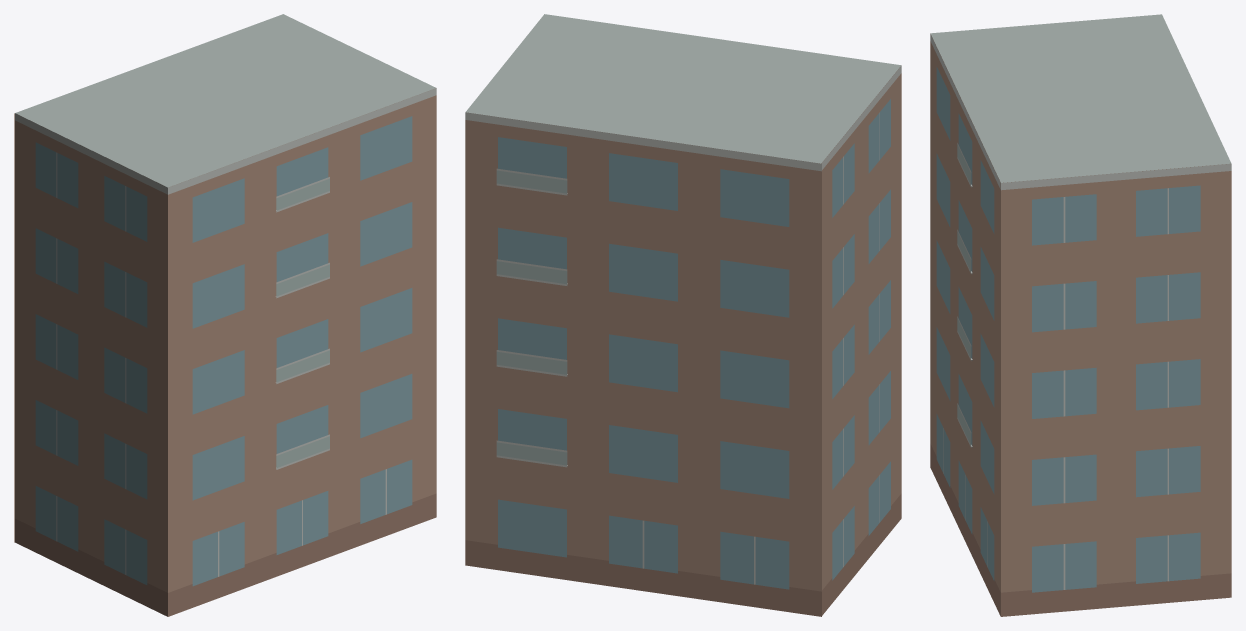
File: survey-upis-32708950.glb
The picture shows the model from 3 angles, left to right: view 1: azimuth 30°, elevation 25°; view 2: azimuth 150°, elevation 25°; view 3: azimuth 270°, elevation 25°; orthographic projection. The views are drawn at different scales.
Visible parts, largest first — view 1: survey-upis-32708950.tmp; view 2: survey-upis-32708950.tmp; view 3: survey-upis-32708950.tmp.
Part boxes in pixels (bbox=[...]): survey-upis-32708950.tmp: bbox=[14, 14, 436, 616]; survey-upis-32708950.tmp: bbox=[465, 14, 901, 616]; survey-upis-32708950.tmp: bbox=[930, 14, 1231, 616].
Bounding box in the file's own units: 12.12 × 14.5 × 9.13.
